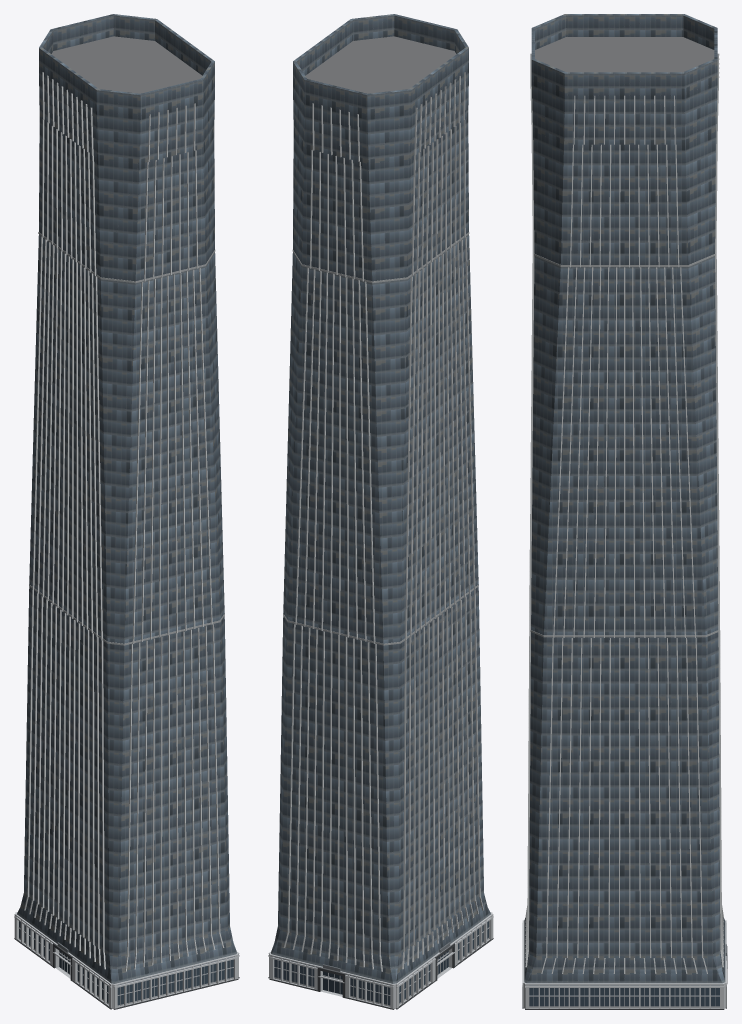
File: one_manhattan_west.glb
3 renders of one model, left to right at view 1: azimuth 30°, elevation 25°; view 2: azimuth 150°, elevation 25°; view 3: azimuth 270°, elevation 25°, orthographic. The views are drawn at different scales.
Parts seen in each view (by area): view 1: one_manhattan_west; view 2: one_manhattan_west; view 3: one_manhattan_west.
Boxes of the visible parts, bbox=[...] form: one_manhattan_west: bbox=[14, 14, 239, 1009]; one_manhattan_west: bbox=[268, 14, 493, 1009]; one_manhattan_west: bbox=[522, 14, 727, 1009].
Size of the model in its own units: 45.42 by 303 by 60.4.
Materials: 2 (2 with a texture image).
